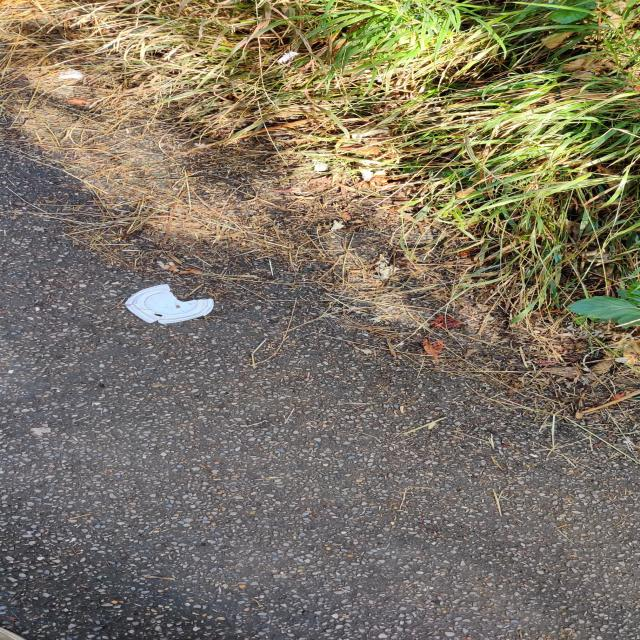litter: (124, 285, 214, 323)
